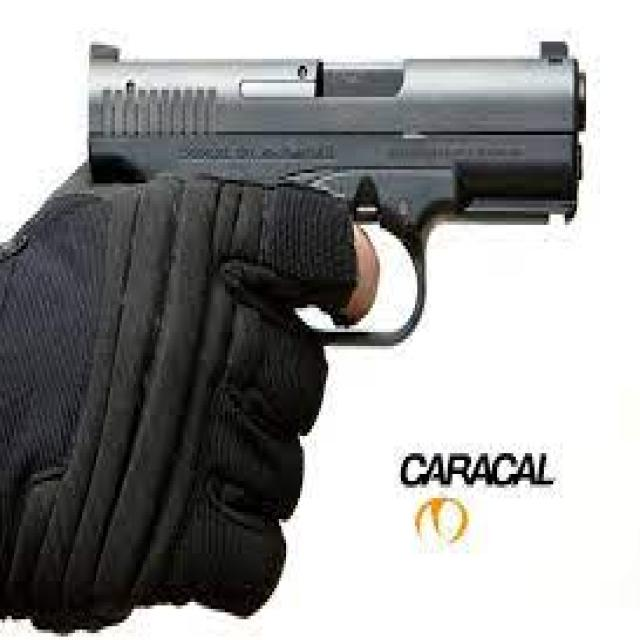Gun: (61, 43, 604, 339)
